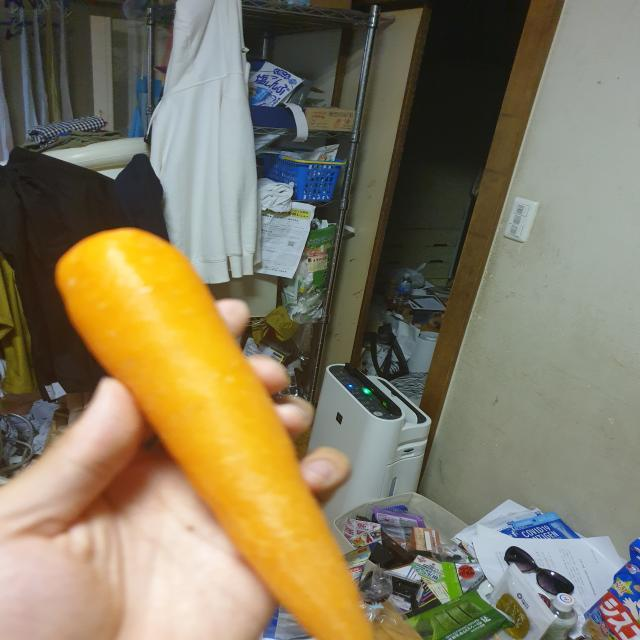carrot: (53, 225, 383, 640)
